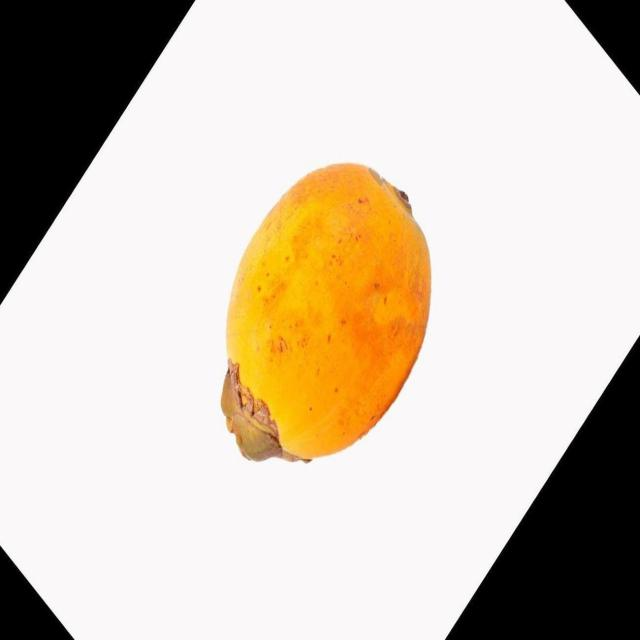good: (219, 162, 433, 465)
